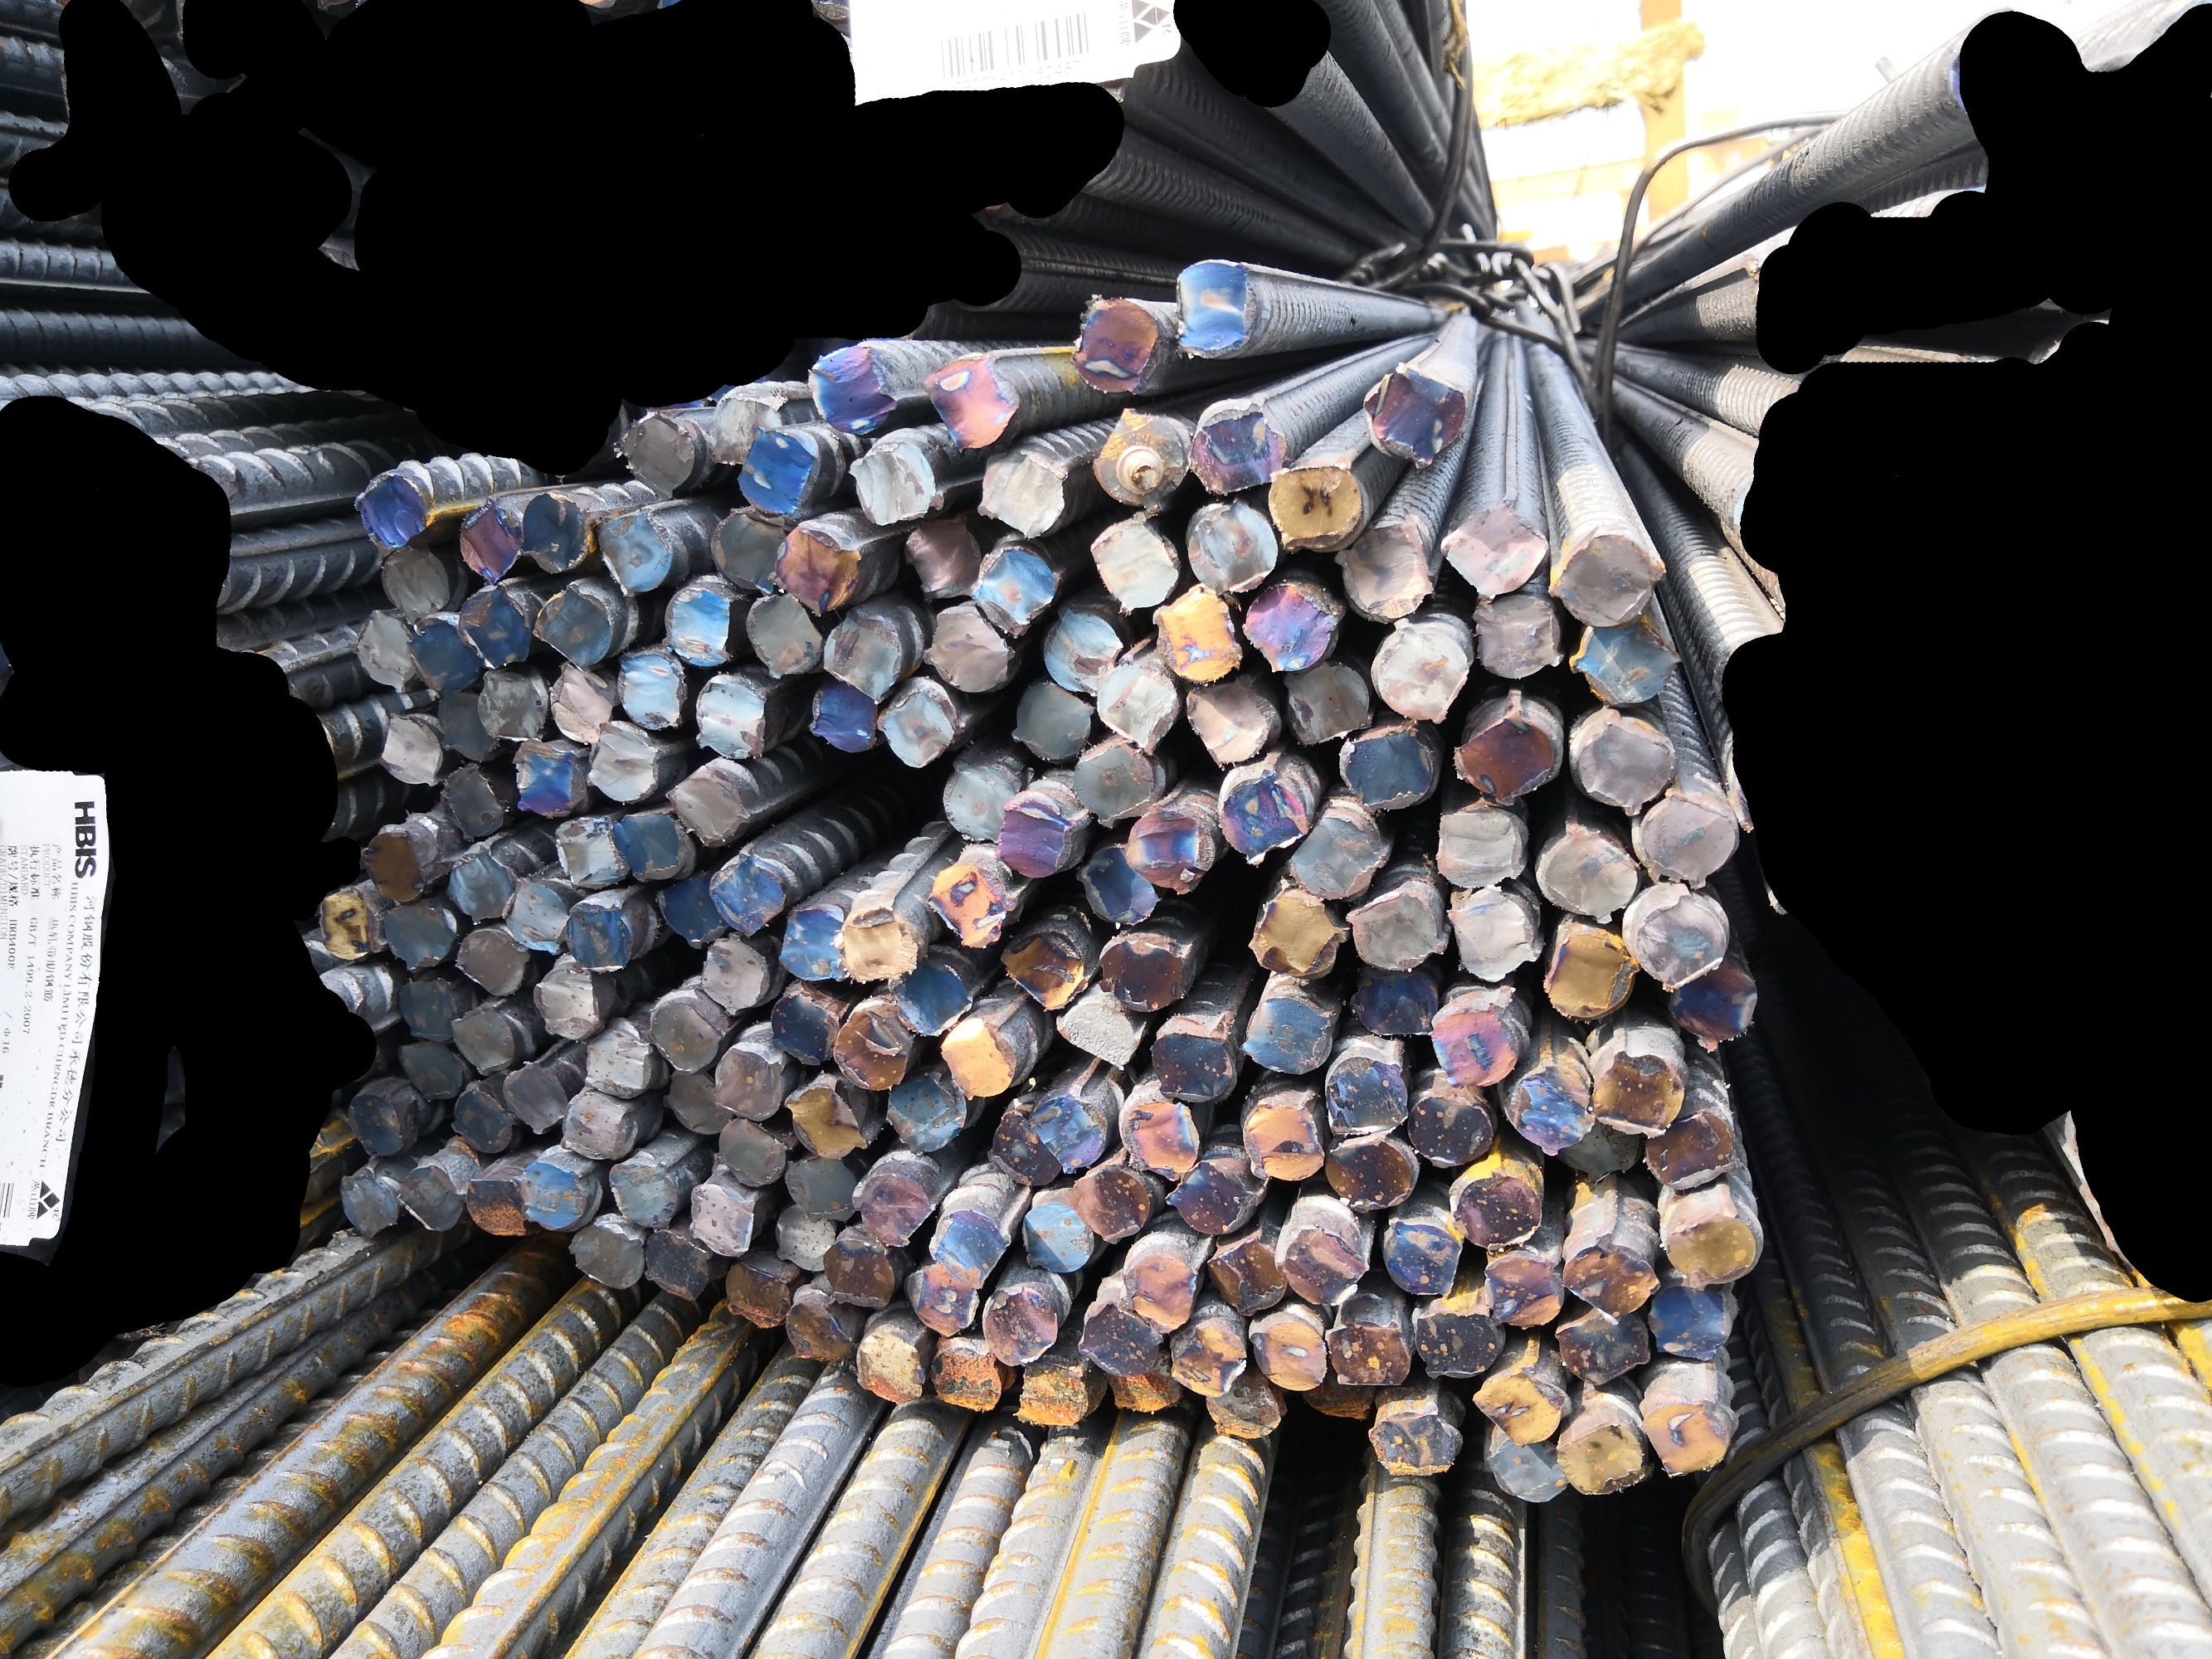rebar: (1358, 357, 1471, 469), (1367, 612, 1475, 728), (1544, 528, 1668, 627), (1567, 709, 1679, 816), (1452, 699, 1564, 805), (1438, 497, 1550, 599), (1632, 788, 1741, 889), (1534, 821, 1639, 925), (1236, 575, 1340, 678), (1543, 918, 1642, 1026), (1567, 619, 1682, 711), (917, 350, 1020, 453), (1245, 885, 1351, 983), (845, 432, 950, 530), (1335, 523, 1435, 624), (1147, 582, 1245, 685), (1182, 401, 1286, 497), (800, 340, 901, 437), (1259, 460, 1367, 551), (1288, 805, 1388, 903), (1630, 890, 1729, 988), (1091, 410, 1192, 505), (1558, 1232, 1665, 1323), (1070, 295, 1163, 397), (1218, 762, 1311, 864), (1086, 516, 1184, 612), (1344, 885, 1450, 972), (769, 519, 863, 617), (1445, 889, 1543, 983), (1182, 502, 1281, 594), (1272, 1218, 1372, 1309), (1429, 800, 1530, 889), (1661, 1206, 1764, 1293), (999, 917, 1093, 1011), (1121, 803, 1215, 897), (1241, 985, 1337, 1077), (1088, 653, 1180, 749), (1590, 1047, 1686, 1140), (1504, 1058, 1597, 1154), (1661, 958, 1759, 1049), (1180, 678, 1279, 767), (1067, 737, 1168, 824), (1171, 258, 1257, 361), (922, 603, 1018, 694), (967, 545, 1063, 636), (974, 446, 1070, 537), (1469, 592, 1567, 681), (1551, 1304, 1652, 1389), (922, 857, 1014, 950), (1150, 1012, 1239, 1108), (1321, 1047, 1412, 1140), (702, 502, 791, 596), (1051, 983, 1145, 1072), (1096, 932, 1198, 1014), (1426, 1000, 1518, 1089), (1644, 1281, 1738, 1368), (657, 763, 753, 849), (1337, 727, 1436, 809), (1239, 1100, 1328, 1190), (1072, 842, 1163, 931), (1035, 601, 1121, 695), (455, 572, 535, 671), (525, 579, 615, 666), (1117, 1093, 1204, 1183), (818, 608, 905, 699), (614, 408, 699, 500), (936, 753, 1021, 845), (1279, 660, 1375, 742), (1639, 1399, 1734, 1481), (1551, 1419, 1649, 1499), (1469, 1366, 1567, 1446), (898, 519, 988, 605), (1645, 1112, 1740, 1194), (1450, 1173, 1546, 1253), (1320, 1136, 1417, 1215), (349, 467, 434, 556), (870, 685, 959, 770), (828, 1002, 912, 1093), (593, 507, 675, 599), (743, 587, 824, 680), (1403, 1087, 1496, 1169), (1163, 1161, 1262, 1236), (560, 1208, 645, 1295), (934, 1011, 1020, 1098), (781, 1075, 870, 1159), (887, 955, 976, 1039), (1009, 681, 1098, 765), (1478, 1251, 1567, 1335), (1381, 1213, 1464, 1302), (706, 849, 788, 939), (831, 903, 922, 985), (690, 666, 767, 762), (370, 540, 457, 624), (1067, 1164, 1154, 1248), (734, 423, 814, 514), (657, 579, 737, 669), (924, 1208, 1014, 1288), (884, 1072, 969, 1155), (1025, 1087, 1109, 1173), (1203, 1229, 1286, 1314), (1243, 1314, 1330, 1396), (612, 640, 689, 732), (1346, 965, 1438, 1042), (1365, 1410, 1466, 1480), (610, 803, 695, 885), (404, 612, 485, 699), (816, 1230, 898, 1314), (985, 1105, 1067, 1188), (852, 1169, 938, 1249), (1117, 1251, 1203, 1331), (1074, 1300, 1163, 1377), (519, 484, 593, 577), (1320, 1316, 1412, 1389), (1410, 1309, 1503, 1382), (899, 1262, 983, 1342), (995, 795, 1075, 878), (694, 932, 772, 1018), (1482, 1436, 1571, 1511), (1553, 1114, 1642, 1188), (434, 755, 507, 845), (652, 868, 734, 948), (546, 812, 629, 890), (765, 985, 844, 1068), (575, 1014, 652, 1100), (584, 716, 659, 803), (554, 1091, 641, 1166), (507, 741, 587, 821), (980, 1286, 1060, 1366), (370, 708, 448, 789), (706, 390, 788, 469), (1164, 1321, 1248, 1398), (776, 899, 849, 986), (645, 995, 723, 1075), (556, 897, 636, 976), (851, 1326, 929, 1406), (1009, 1354, 1089, 1431), (377, 899, 458, 974), (601, 1154, 683, 1229), (444, 842, 518, 925), (779, 1152, 863, 1225), (451, 495, 523, 580), (476, 667, 553, 746), (713, 1112, 790, 1190), (528, 965, 603, 1046), (711, 1040, 786, 1121), (453, 925, 533, 1000), (929, 1338, 1004, 1419), (1203, 1366, 1285, 1439), (546, 660, 615, 746), (659, 1065, 737, 1140), (392, 1154, 464, 1236), (497, 873, 568, 955), (352, 828, 427, 904), (779, 1288, 854, 1364), (802, 683, 880, 756), (641, 1227, 713, 1307), (687, 1175, 757, 1256), (349, 608, 415, 694), (425, 685, 500, 760), (1020, 1202, 1096, 1276), (335, 1159, 403, 1241), (1100, 1349, 1182, 1417), (518, 1157, 589, 1234), (499, 1060, 570, 1136), (720, 1255, 791, 1331), (314, 885, 382, 964), (460, 1168, 532, 1241), (444, 1082, 516, 1155), (340, 1089, 411, 1161), (444, 1004, 516, 1075), (769, 1202, 837, 1276), (392, 1040, 469, 1105), (1293, 1366, 1374, 1425), (390, 974, 460, 1040)
